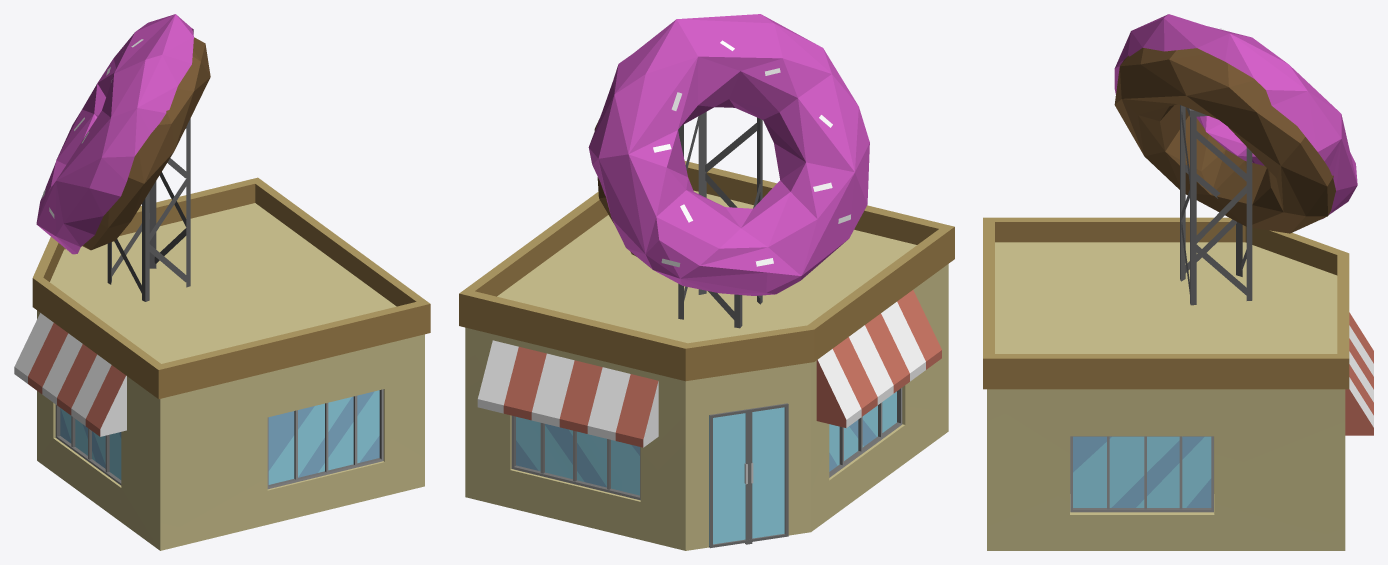
Rendered from building_2_1_1_5.glb.
The picture shows the model from 3 angles, left to right: view 1: azimuth 30°, elevation 25°; view 2: azimuth 150°, elevation 25°; view 3: azimuth 270°, elevation 25°; orthographic projection. The views are drawn at different scales.
Parts seen in each view (by area): view 1: building_2_1_1_5; view 2: building_2_1_1_5; view 3: building_2_1_1_5.
Part boxes in pixels (left/top/right/bottom): building_2_1_1_5: left=14, top=14, right=430, bottom=550; building_2_1_1_5: left=459, top=14, right=954, bottom=550; building_2_1_1_5: left=983, top=14, right=1373, bottom=550.
Size of the model in its own units: 11.29 by 15.47 by 12.19.
Materials: 1 (1 with a texture image).
